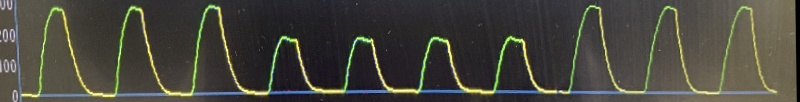normal_volume: (14, 0, 782, 102)
